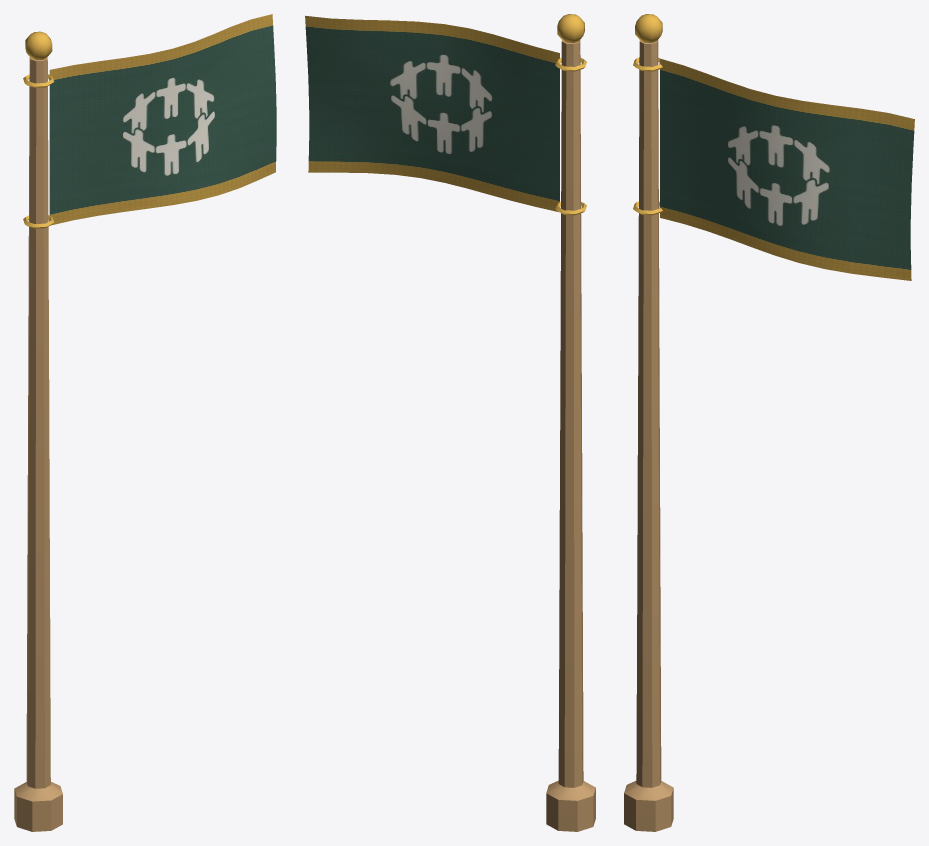
The model's file is flag-pole.glb.
3 views of the same model, side by side, from view 1: azimuth 30°, elevation 25°; view 2: azimuth 150°, elevation 25°; view 3: azimuth 330°, elevation 25° (orthographic). The views are drawn at different scales.
Parts seen in each view (by area): view 1: flag-pole; view 2: flag-pole; view 3: flag-pole.
Boxes of the visible parts, box(x1,y1,x2,y2) form: flag-pole: box(14, 14, 276, 831); flag-pole: box(305, 14, 595, 831); flag-pole: box(624, 14, 914, 831).
Bounding box in the file's own units: 1.48 × 4.15 × 0.2462.
Materials: 3 (1 with a texture image).
